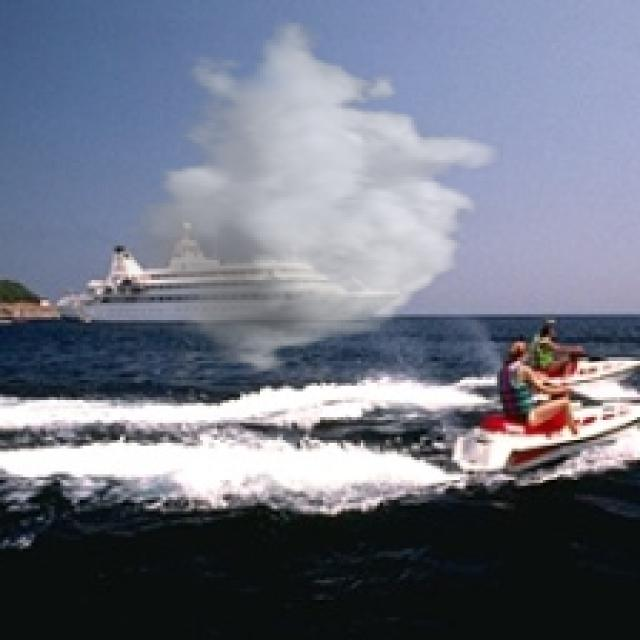smoke: (114, 20, 503, 377)
